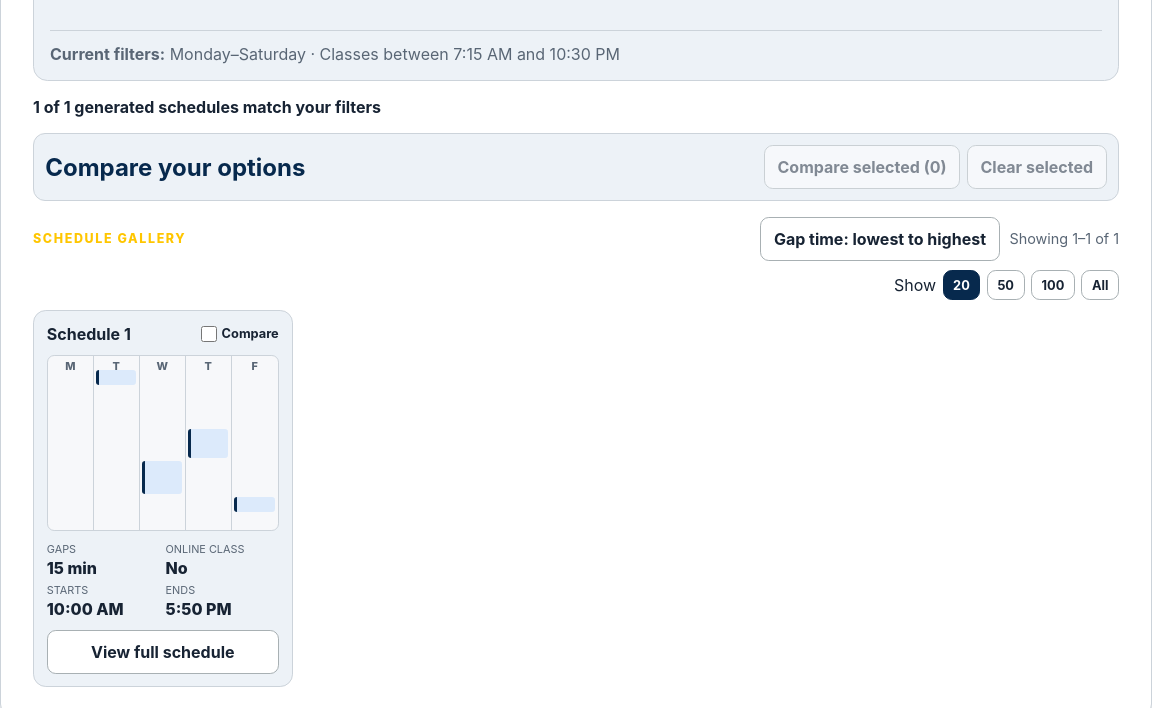
it: ScheduleResults › renders a gallery and opens day columns, recurring rows, and components
(page scrolled)
Check: the heading "Compare your options" is shown, box left=45, top=152, right=305, bottom=182
Check: the button "20" is shown, box left=942, top=270, right=980, bottom=300
Click the button "View full schedule" at (163, 652), box left=47, top=630, right=279, bottom=674
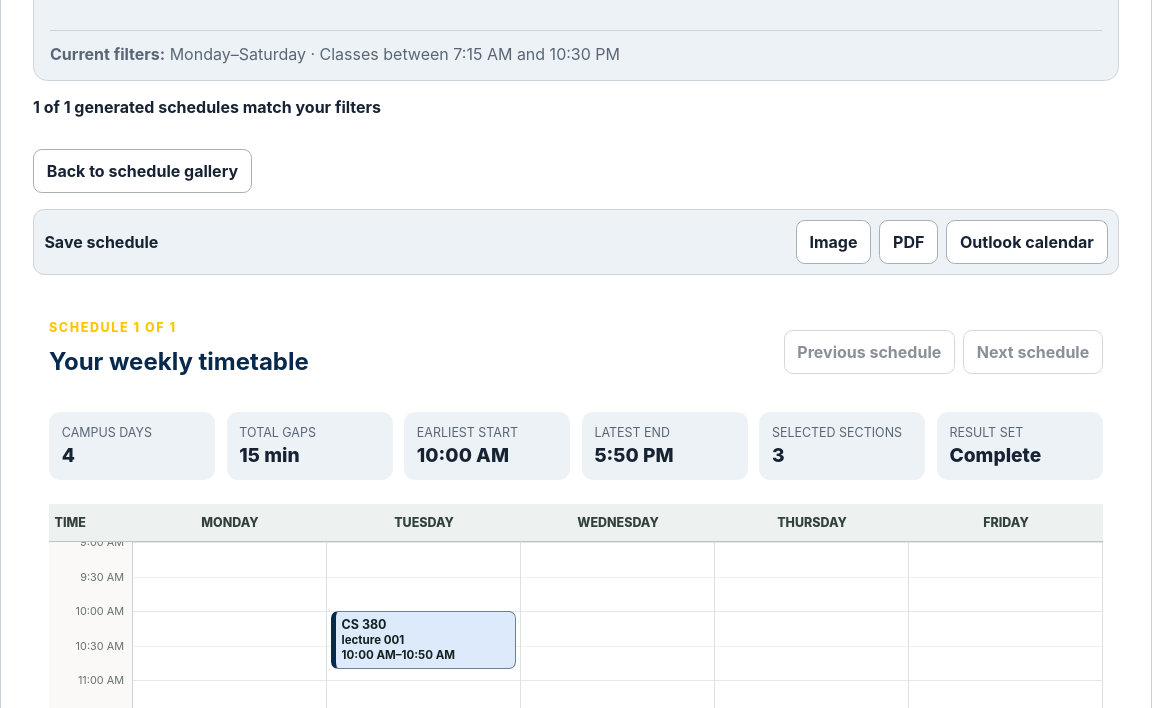
Check: the number of buttons named "CS 380, lecture section 001" is 2
Check: the text "Save schedule" is shown, box left=44, top=232, right=158, bottom=252
Check: the button "Image" is shown, box left=796, top=220, right=871, bottom=264
